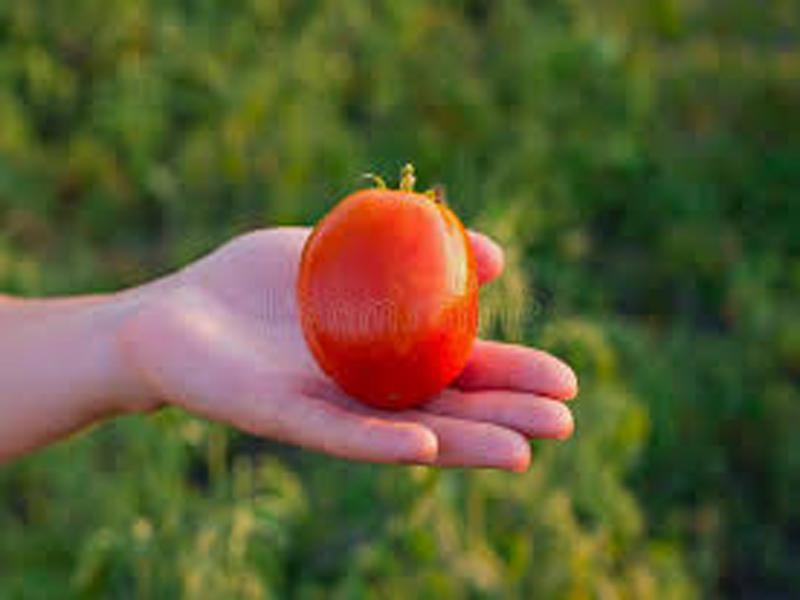Tomato: (299, 190, 475, 413)
